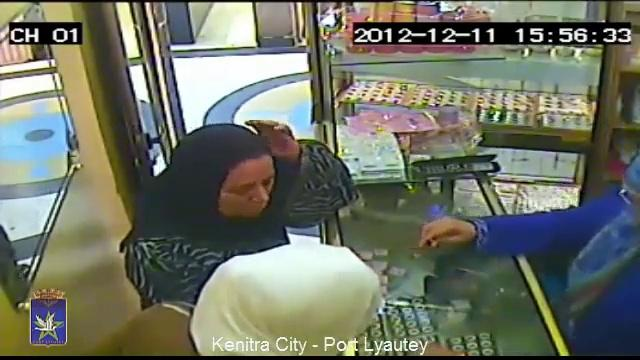Product: (422, 228, 438, 254)
Product-Picked: (392, 90, 640, 353)
Regular: (159, 225, 391, 360), (173, 104, 290, 226)
